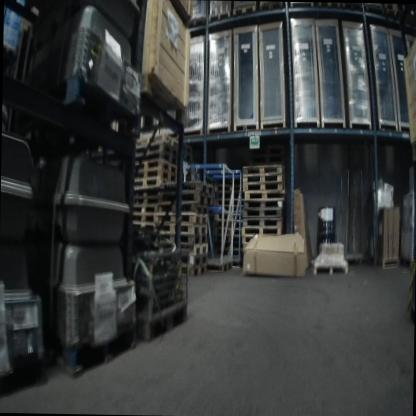pallet: (50, 316, 141, 384), (58, 70, 144, 138), (135, 68, 186, 124), (0, 349, 53, 395), (157, 188, 212, 205), (155, 211, 208, 226), (217, 239, 243, 269), (135, 141, 177, 157), (155, 223, 211, 235), (158, 180, 213, 192), (135, 133, 178, 148), (161, 233, 210, 246), (135, 151, 176, 166), (157, 201, 208, 213), (313, 259, 347, 276), (177, 248, 207, 267), (138, 159, 178, 173), (214, 182, 252, 196), (135, 169, 178, 181), (134, 177, 172, 190), (241, 163, 282, 175), (241, 207, 282, 219), (240, 225, 281, 237), (179, 261, 209, 277), (206, 255, 232, 273), (242, 181, 283, 192), (241, 172, 283, 182), (244, 190, 284, 200), (241, 218, 281, 228), (243, 198, 282, 208), (176, 243, 208, 255), (133, 184, 159, 198), (132, 204, 157, 216), (208, 9, 231, 22), (217, 189, 240, 202), (232, 121, 258, 132), (215, 211, 243, 221), (232, 4, 256, 15), (376, 258, 399, 269), (215, 219, 243, 228), (132, 214, 155, 224), (133, 196, 158, 205), (214, 199, 244, 206), (215, 227, 241, 235), (259, 2, 282, 11), (364, 5, 384, 15), (216, 234, 242, 241), (188, 16, 204, 26), (318, 2, 340, 8), (342, 3, 361, 8), (241, 236, 253, 243)
stillage: (133, 246, 190, 341)
